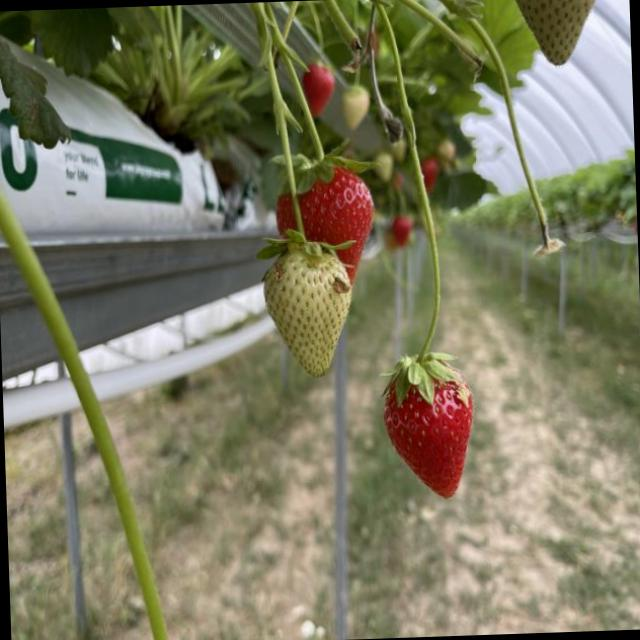stem: (248, 2, 326, 258), (382, 178, 460, 403), (372, 0, 421, 177), (430, 235, 438, 272)
strawberryNR: (264, 249, 350, 374), (515, 0, 592, 62)
strawberryR: (383, 382, 472, 495), (297, 166, 371, 260), (301, 63, 334, 115)
